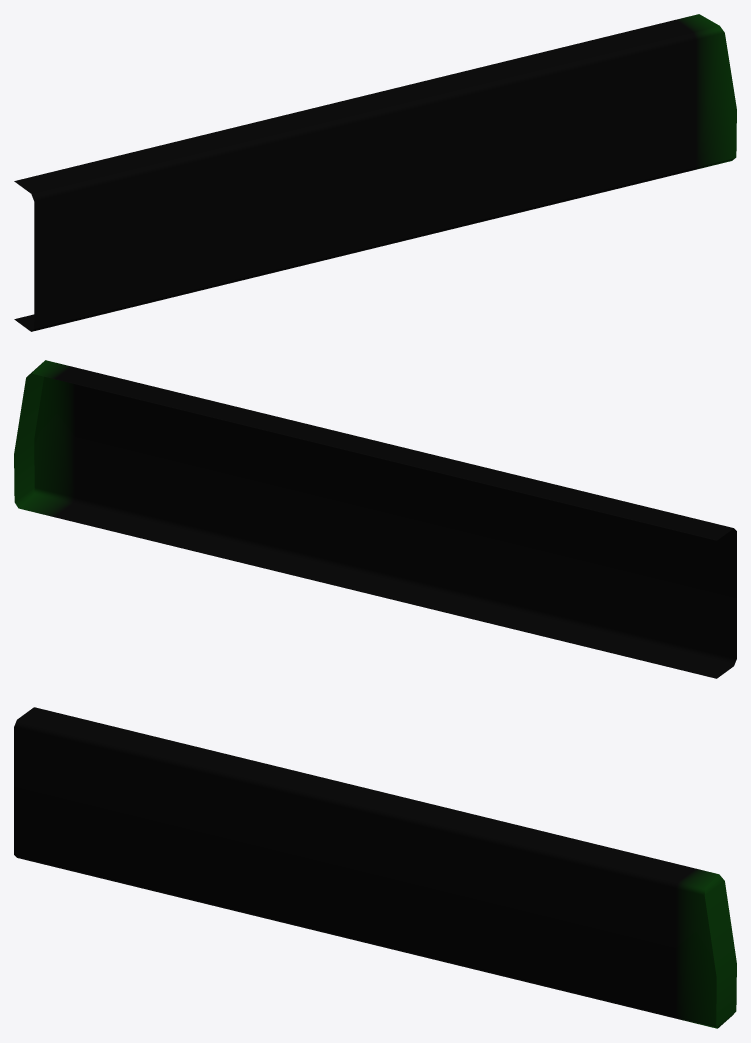
File: DBK_Trim_Brick_End.fbx
3 views of the same model, one above another, from view 1: azimuth 30°, elevation 25°; view 2: azimuth 150°, elevation 25°; view 3: azimuth 330°, elevation 25° (orthographic).
Visible parts, largest first — view 1: DBK_Trim_Brick_End; view 2: DBK_Trim_Brick_End; view 3: DBK_Trim_Brick_End.
Part boxes in pixels (x1,y1,x2,y2): DBK_Trim_Brick_End: [14, 14, 736, 331]; DBK_Trim_Brick_End: [14, 360, 736, 678]; DBK_Trim_Brick_End: [14, 707, 736, 1028].
Bounding box in the file's own units: 139 × 26.11 × 6.92.
